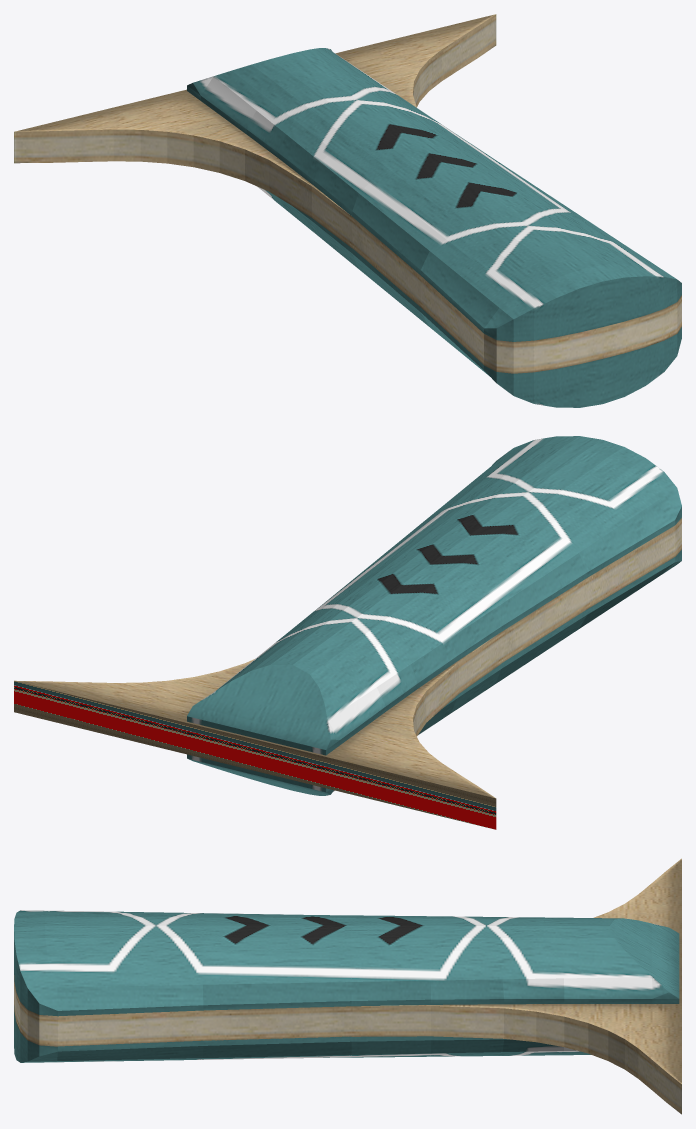
The model's file is ping pong paddle handle collider.fbx.
The picture shows the model from 3 angles, top to bottom: view 1: azimuth 30°, elevation 25°; view 2: azimuth 150°, elevation 25°; view 3: azimuth 270°, elevation 25°; orthographic projection. The views are drawn at different scales.
Parts seen in each view (by area): view 1: SM_PingPongPaddle_handle_col; view 2: SM_PingPongPaddle_handle_col; view 3: SM_PingPongPaddle_handle_col.
Boxes of the visible parts, bbox=[...] form: SM_PingPongPaddle_handle_col: bbox=[14, 14, 681, 407]; SM_PingPongPaddle_handle_col: bbox=[14, 436, 681, 829]; SM_PingPongPaddle_handle_col: bbox=[14, 858, 681, 1114].
Size of the model in its own units: 148 by 37.13 by 185.
